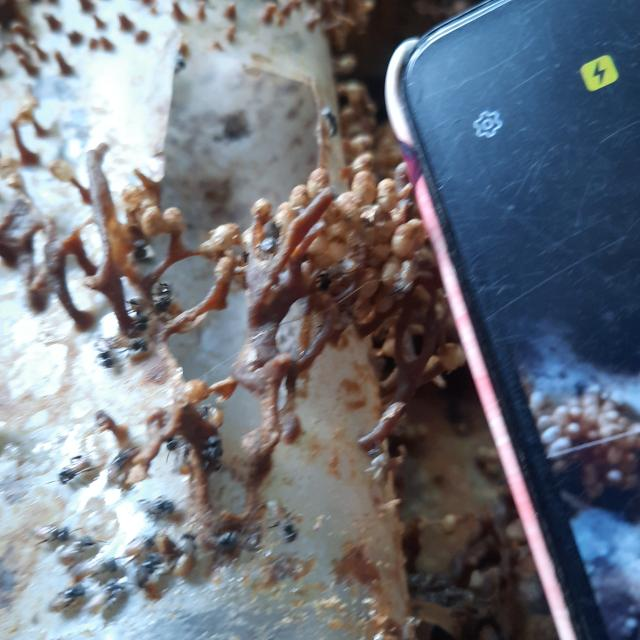honeybee: (49, 530, 105, 568), (51, 453, 99, 493), (84, 579, 128, 619), (266, 498, 302, 544), (45, 581, 86, 621), (120, 531, 164, 563), (76, 550, 118, 582), (365, 438, 394, 483), (32, 520, 74, 551), (176, 526, 198, 582), (134, 494, 184, 518), (146, 279, 179, 315), (216, 523, 258, 551), (94, 342, 124, 374), (135, 557, 160, 594), (390, 264, 412, 301), (231, 241, 259, 269), (262, 221, 282, 256), (126, 312, 154, 336), (321, 109, 344, 137), (313, 270, 335, 294), (131, 241, 152, 261), (170, 57, 189, 78)
